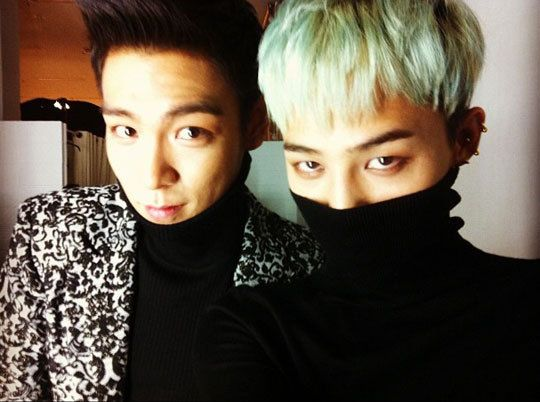face: (103, 45, 251, 229)
face_mask: (285, 69, 450, 279)
